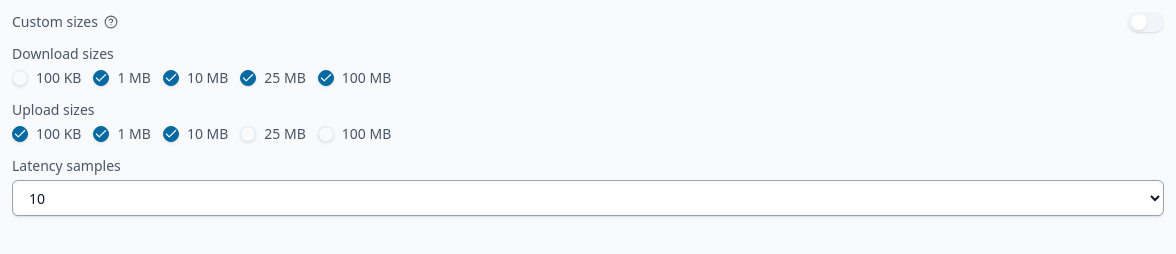
CloudflareFields: emptying every preset chip › shows "Using engine defaults" after unchecking every upload chip, and re-checks the defaults
This screenshot has width=1176, height=254.
Expected: the text "Using engine defaults" is not shown
Click the 6th checkbox named "100 KB" at (20, 134), box [12,126,28,142]
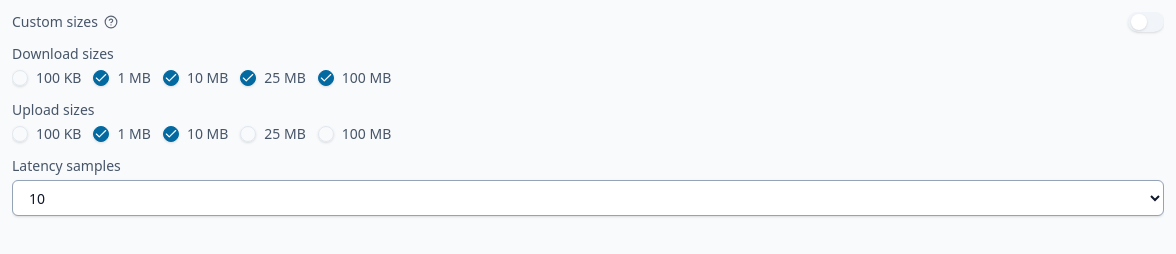
Click the 7th checkbox named "1 MB" at (101, 134), box [93,126,109,142]
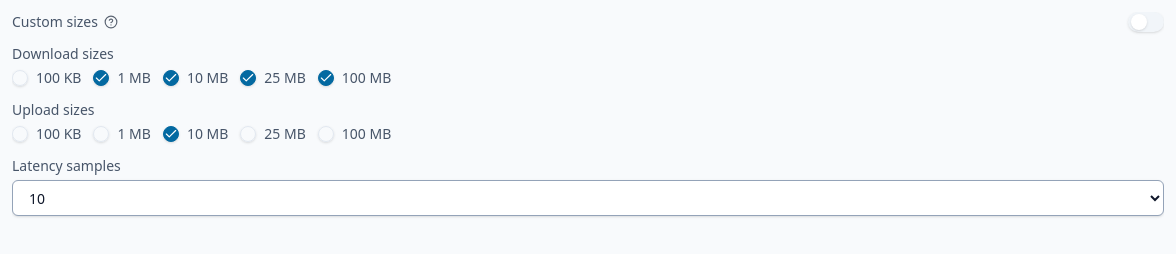
Click the 8th checkbox named "10 MB" at (171, 134), box [163,126,179,142]
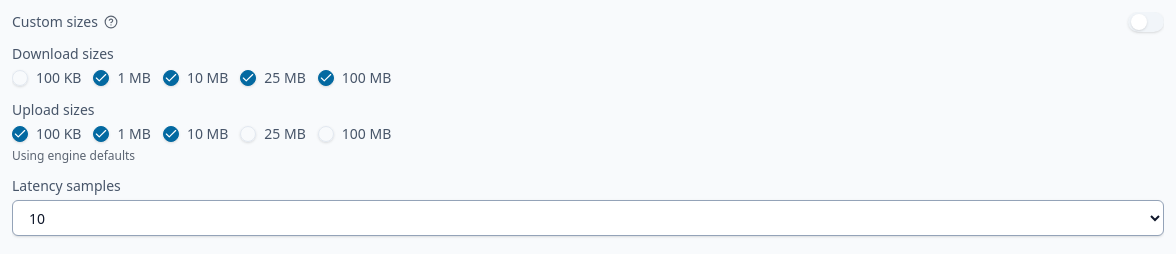
Now the 6th checkbox named "100 KB" is checked, box [12,126,28,142]
Now the text "Using engine defaults" is shown, box [12,147,135,164]
